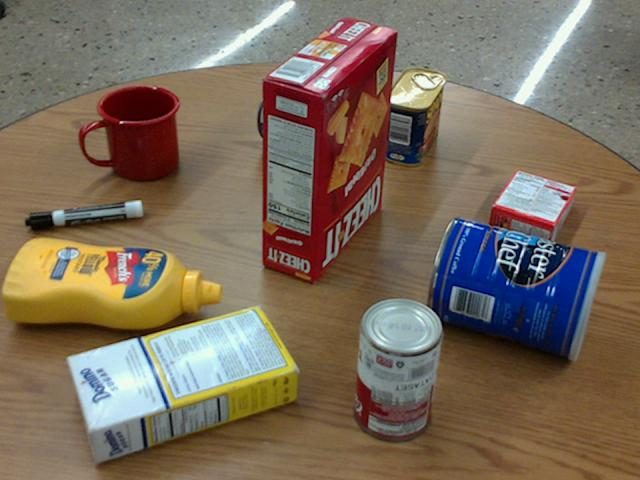cracker_box: (261, 16, 397, 281)
gelatin_box: (489, 168, 576, 242)
large_marker: (27, 199, 143, 230)
master_chef_can: (429, 214, 607, 358)
mug: (82, 86, 179, 181)
mustard_bottle: (3, 236, 222, 330)
potted_meat_can: (384, 67, 446, 166)
sugar_box: (64, 305, 296, 461)
tomato_soup_can: (356, 295, 444, 439)
tuna_fish_can: (256, 73, 316, 146)
